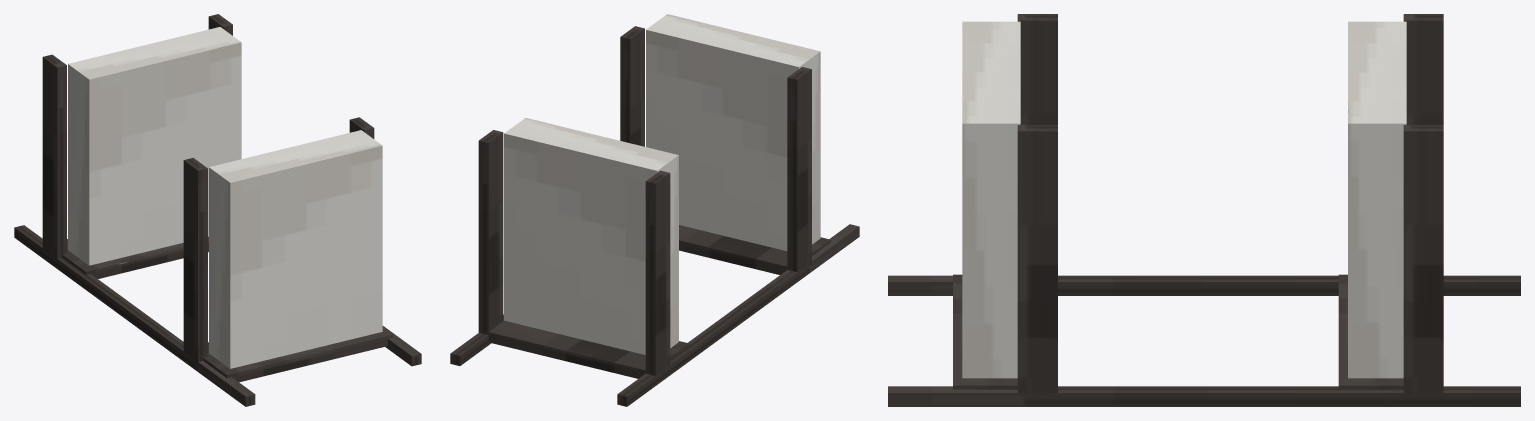
Rendered from pz_house_bunk_head.obj.
3 views of the same model, side by side, from view 1: azimuth 30°, elevation 25°; view 2: azimuth 150°, elevation 25°; view 3: azimuth 270°, elevation 25° (orthographic). The views are drawn at different scales.
Parts seen in each view (by area): view 1: pz_house_bunk_head_|_7_colchao, pz_house_bunk_head_|_3_colchao, pz_house_bunk_head_|_5_estrutura_madeira, pz_house_bunk_head_|_9_estrutura_madeira, pz_house_bunk_head_|_1_estrutura_madeira, pz_house_bunk_head_|_8_estrutura_madeira, pz_house_bunk_head_|_4_estrutura_madeira, pz_house_bunk_head_|_2_estrutura_madeira; view 2: pz_house_bunk_head_|_3_colchao, pz_house_bunk_head_|_7_colchao, pz_house_bunk_head_|_5_estrutura_madeira, pz_house_bunk_head_|_6_estrutura_madeira, pz_house_bunk_head_|_9_estrutura_madeira, pz_house_bunk_head_|_1_estrutura_madeira, pz_house_bunk_head_|_4_estrutura_madeira, pz_house_bunk_head_|_8_estrutura_madeira, pz_house_bunk_head_|_10_estrutura_madeira, pz_house_bunk_head_|_2_estrutura_madeira; view 3: pz_house_bunk_head_|_3_colchao, pz_house_bunk_head_|_7_colchao, pz_house_bunk_head_|_2_estrutura_madeira, pz_house_bunk_head_|_6_estrutura_madeira, pz_house_bunk_head_|_10_estrutura_madeira, pz_house_bunk_head_|_1_estrutura_madeira, pz_house_bunk_head_|_5_estrutura_madeira, pz_house_bunk_head_|_9_estrutura_madeira, pz_house_bunk_head_|_4_estrutura_madeira, pz_house_bunk_head_|_8_estrutura_madeira.
Boxes of the visible parts, box(x1,y1,x2,y2) form: pz_house_bunk_head_|_7_colchao: box(209, 130, 382, 368); pz_house_bunk_head_|_3_colchao: box(68, 27, 241, 265); pz_house_bunk_head_|_5_estrutura_madeira: box(42, 54, 66, 259); pz_house_bunk_head_|_9_estrutura_madeira: box(183, 157, 207, 363); pz_house_bunk_head_|_1_estrutura_madeira: box(14, 225, 255, 406); pz_house_bunk_head_|_8_estrutura_madeira: box(203, 327, 392, 382); pz_house_bunk_head_|_4_estrutura_madeira: box(62, 236, 208, 278); pz_house_bunk_head_|_2_estrutura_madeira: box(382, 326, 421, 366); pz_house_bunk_head_|_3_colchao: box(504, 118, 678, 354); pz_house_bunk_head_|_7_colchao: box(646, 14, 820, 250); pz_house_bunk_head_|_5_estrutura_madeira: box(645, 170, 670, 376); pz_house_bunk_head_|_6_estrutura_madeira: box(478, 130, 503, 333); pz_house_bunk_head_|_9_estrutura_madeira: box(787, 67, 811, 272); pz_house_bunk_head_|_1_estrutura_madeira: box(617, 224, 859, 406); pz_house_bunk_head_|_4_estrutura_madeira: box(483, 316, 688, 378); pz_house_bunk_head_|_8_estrutura_madeira: box(679, 225, 830, 274); pz_house_bunk_head_|_10_estrutura_madeira: box(620, 26, 644, 146); pz_house_bunk_head_|_2_estrutura_madeira: box(450, 314, 503, 365); pz_house_bunk_head_|_3_colchao: box(1348, 21, 1406, 378); pz_house_bunk_head_|_7_colchao: box(962, 21, 1020, 378); pz_house_bunk_head_|_2_estrutura_madeira: box(888, 386, 1520, 406); pz_house_bunk_head_|_6_estrutura_madeira: box(1403, 125, 1443, 395); pz_house_bunk_head_|_10_estrutura_madeira: box(1017, 125, 1057, 395); pz_house_bunk_head_|_1_estrutura_madeira: box(888, 275, 1520, 295); pz_house_bunk_head_|_5_estrutura_madeira: box(1403, 14, 1443, 124); pz_house_bunk_head_|_9_estrutura_madeira: box(1017, 14, 1057, 124); pz_house_bunk_head_|_4_estrutura_madeira: box(1338, 274, 1403, 389); pz_house_bunk_head_|_8_estrutura_madeira: box(953, 274, 1017, 389).
Bounding box in the file's own units: 0.9 × 0.985 × 2.05.
Materials: 1 (1 with a texture image).
